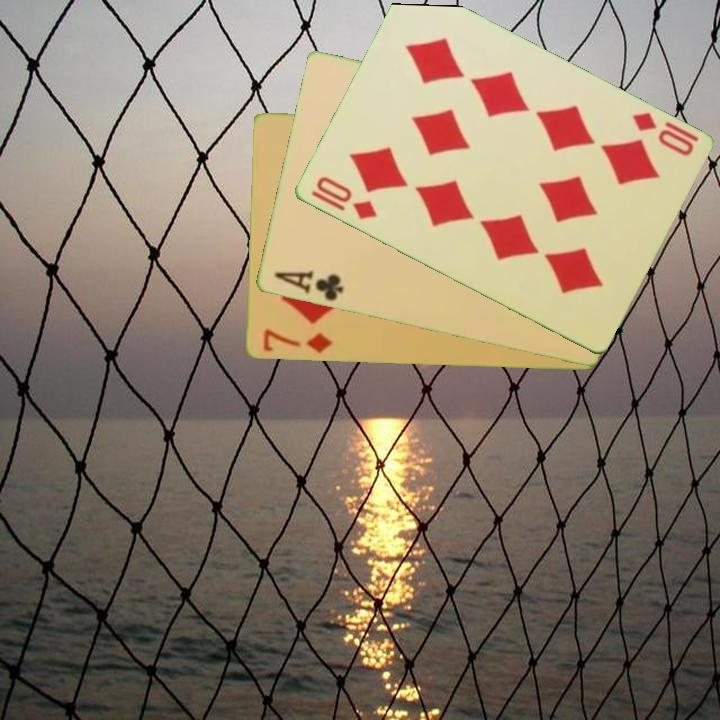10d: (628, 108, 701, 160), (312, 173, 379, 223)
7d: (259, 326, 335, 357)
Ac: (270, 267, 345, 305)
